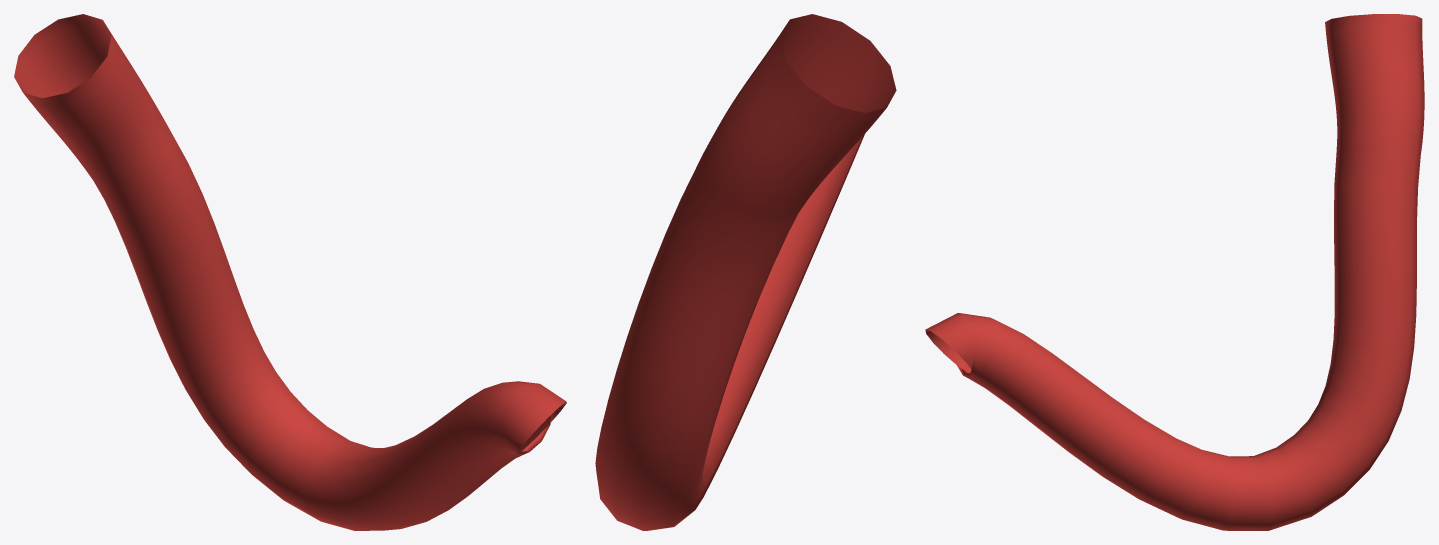
3 renders of one model, left to right at view 1: azimuth 30°, elevation 25°; view 2: azimuth 150°, elevation 25°; view 3: azimuth 270°, elevation 25°, orthographic. The views are drawn at different scales.
Visible parts, largest first — view 1: 右侧大脑前动脉; view 2: 右侧大脑前动脉; view 3: 右侧大脑前动脉.
Part boxes in pixels (x1,y1,x2,y2): 右侧大脑前动脉: (14,14,566,530); 右侧大脑前动脉: (595,14,896,530); 右侧大脑前动脉: (925,14,1424,530).
Size of the model in its own units: 0.0144 by 0.0221 by 0.0227.
